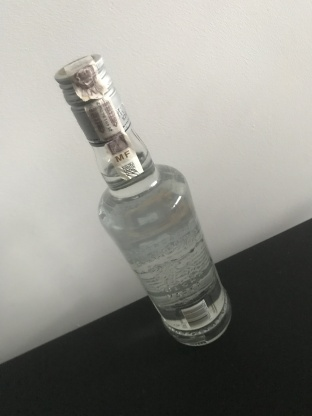nakretka: (52, 51, 132, 148)
